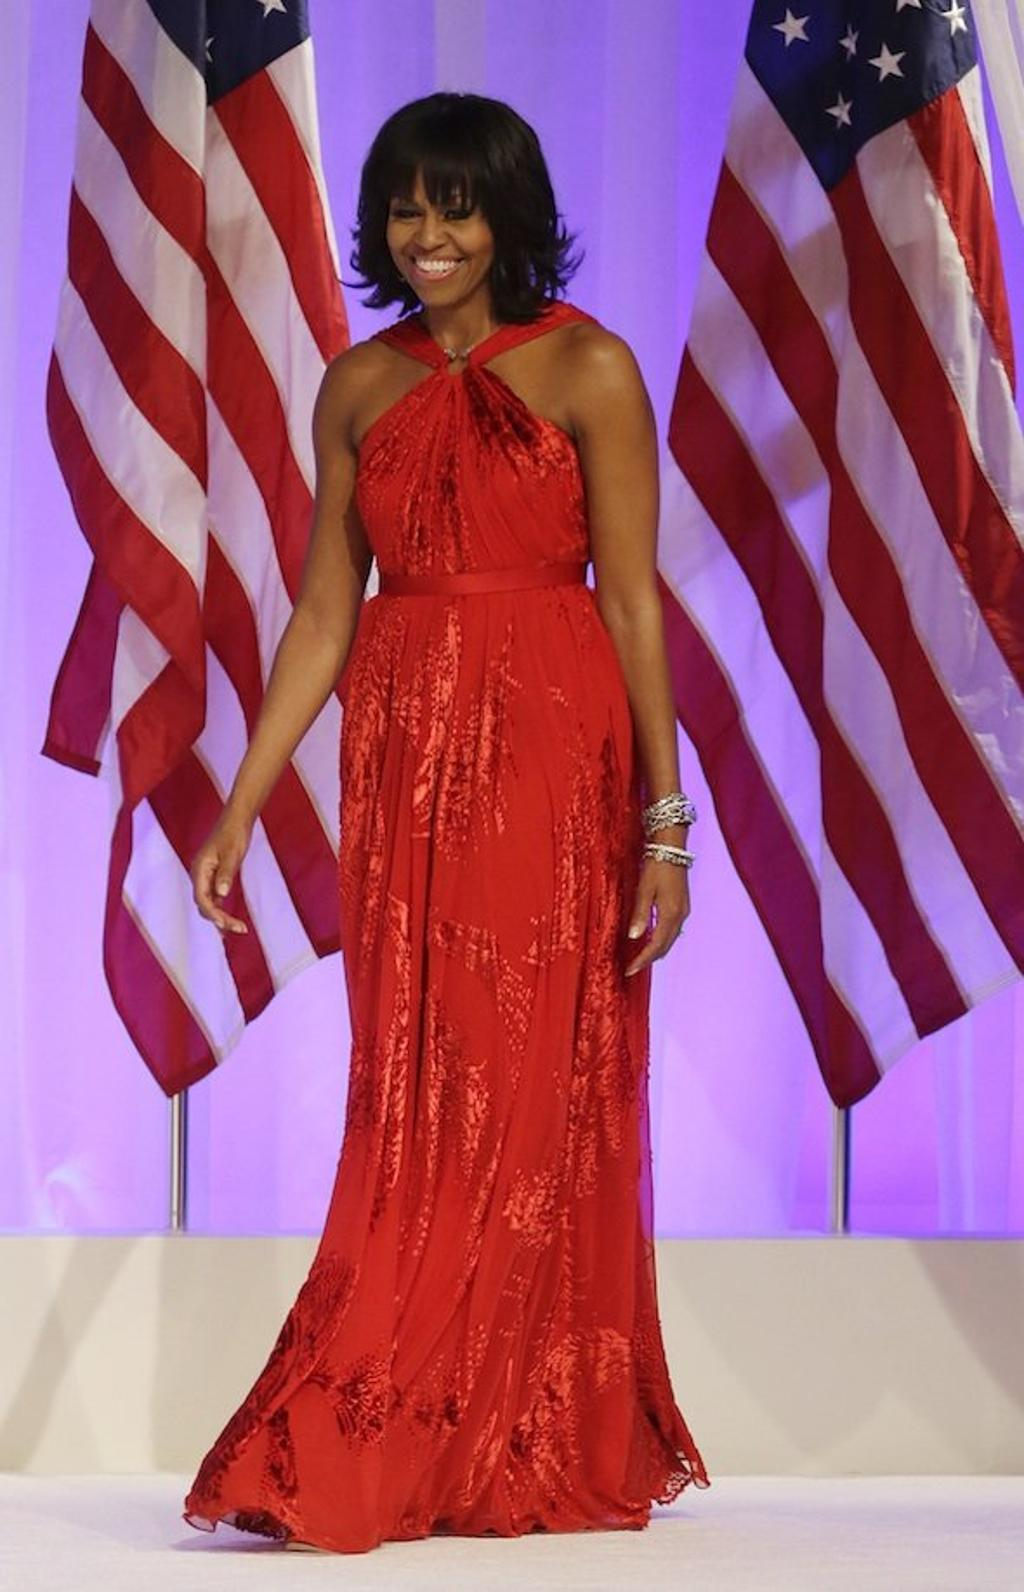face: (389, 140, 501, 305)
